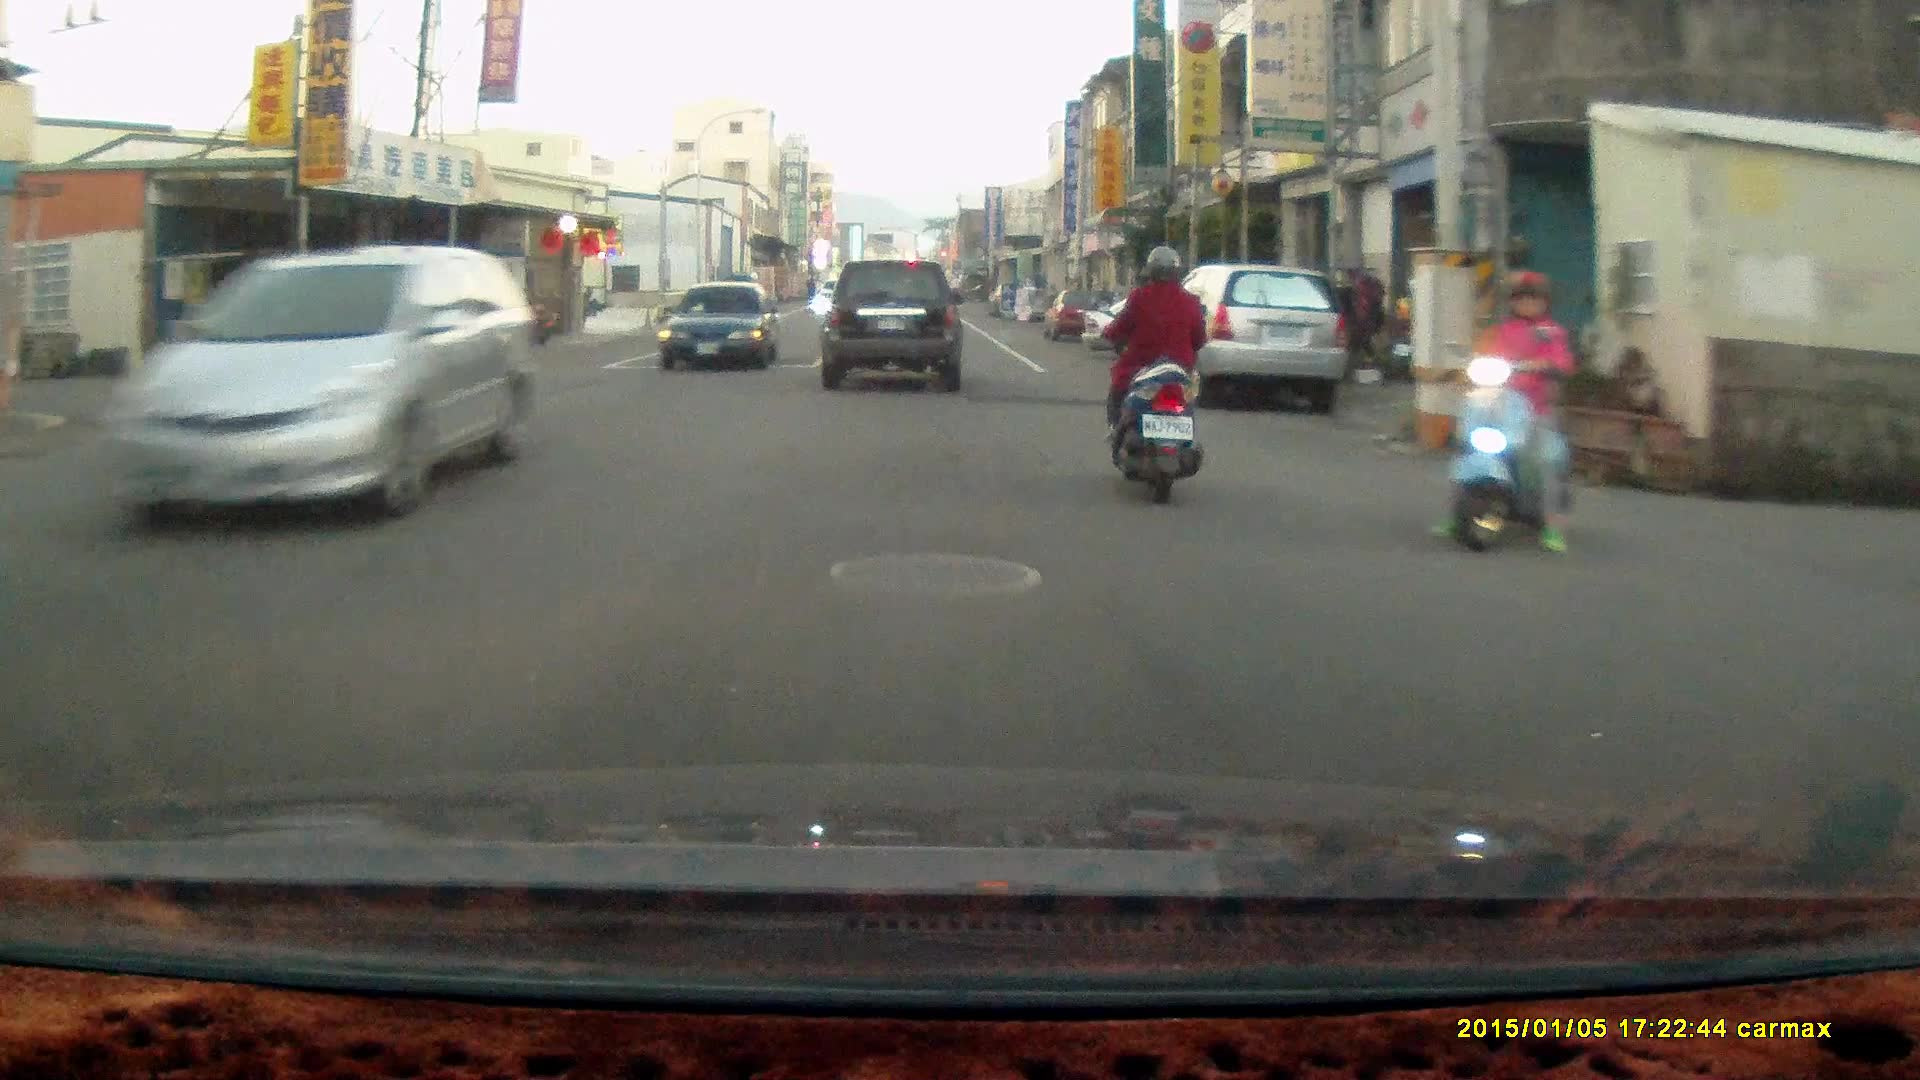rider: (1423, 268, 1575, 555), (1103, 241, 1205, 506)
vehicle: (103, 239, 545, 534), (1146, 261, 1347, 409), (821, 257, 965, 395), (1084, 283, 1267, 359), (664, 280, 783, 373)
